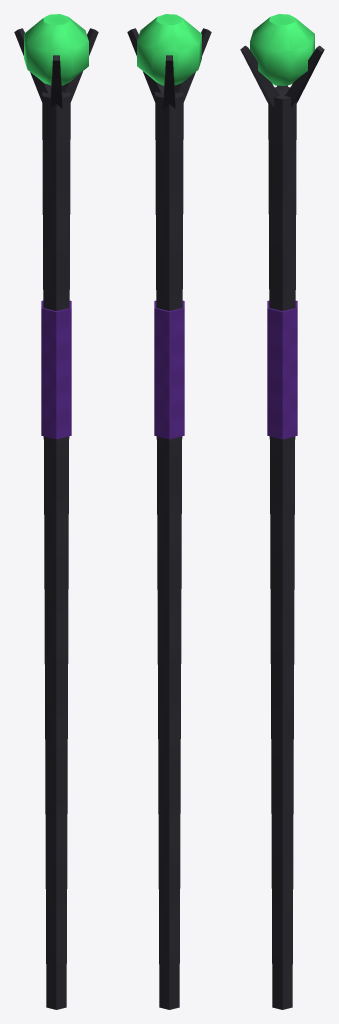
Rendered from SM_Prop_ShadowStaff_HQ.glb.
3 views of the same model, side by side, from view 1: azimuth 30°, elevation 25°; view 2: azimuth 150°, elevation 25°; view 3: azimuth 330°, elevation 25° (orthographic).
Visible parts, largest first — view 1: SM_Prop_ShadowStaff_HQ; view 2: SM_Prop_ShadowStaff_HQ; view 3: SM_Prop_ShadowStaff_HQ.
Boxes of the visible parts, x1,y1,x2,y2 form: SM_Prop_ShadowStaff_HQ: (14, 14, 98, 1009); SM_Prop_ShadowStaff_HQ: (127, 14, 211, 1009); SM_Prop_ShadowStaff_HQ: (240, 14, 324, 1009).
Size of the model in its own units: 0.1373 by 1.86 by 0.1442.
Materials: 1 (1 with a texture image).
